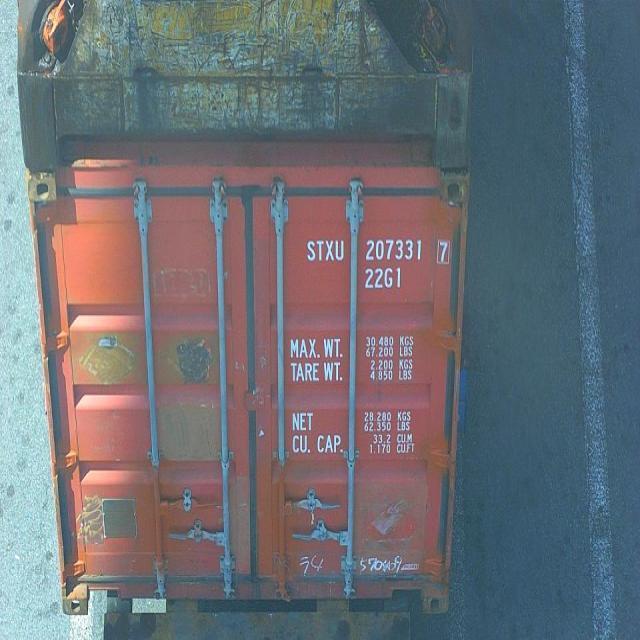ISO: (361, 268, 404, 290)
container_number: (310, 235, 454, 263)
